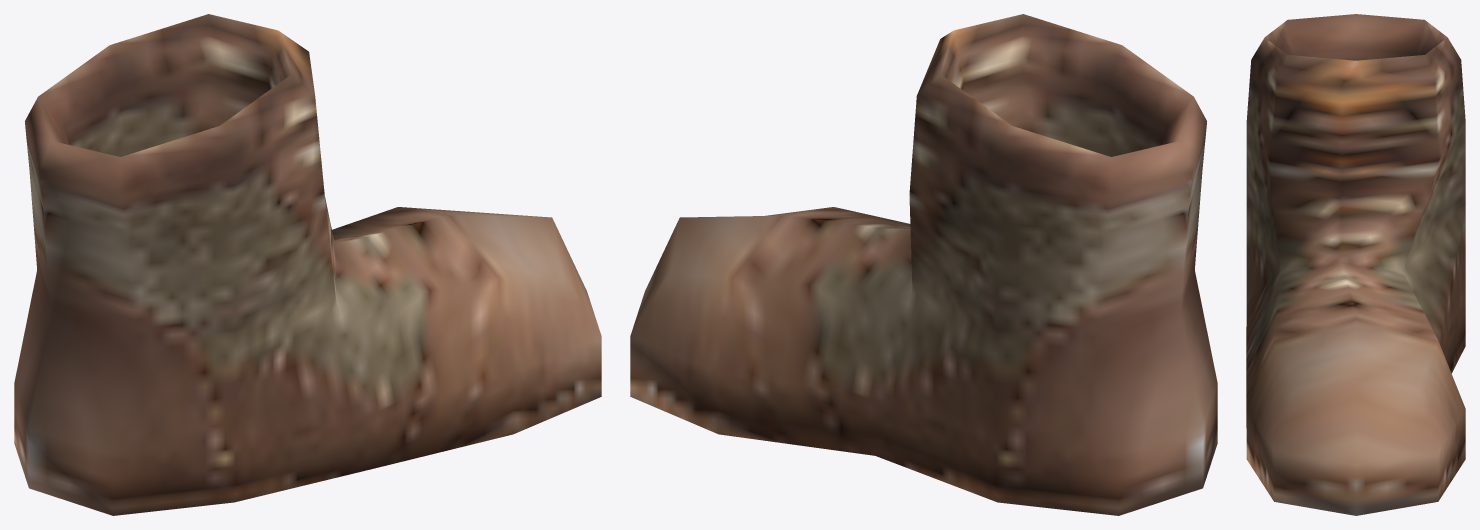
File: boot.fbx
The picture shows the model from 3 angles, left to right: view 1: azimuth 30°, elevation 25°; view 2: azimuth 150°, elevation 25°; view 3: azimuth 270°, elevation 25°; orthographic projection. The views are drawn at different scales.
Parts seen in each view (by area): view 1: boot; view 2: boot; view 3: boot.
Part boxes in pixels (box(x1,y1,x2,y2)): boot: box(14, 14, 601, 515); boot: box(630, 14, 1217, 515); boot: box(1246, 14, 1465, 515).
Bounding box in the file's own units: 37.47 × 26.4 × 15.34.
1 material, 1 textured.
